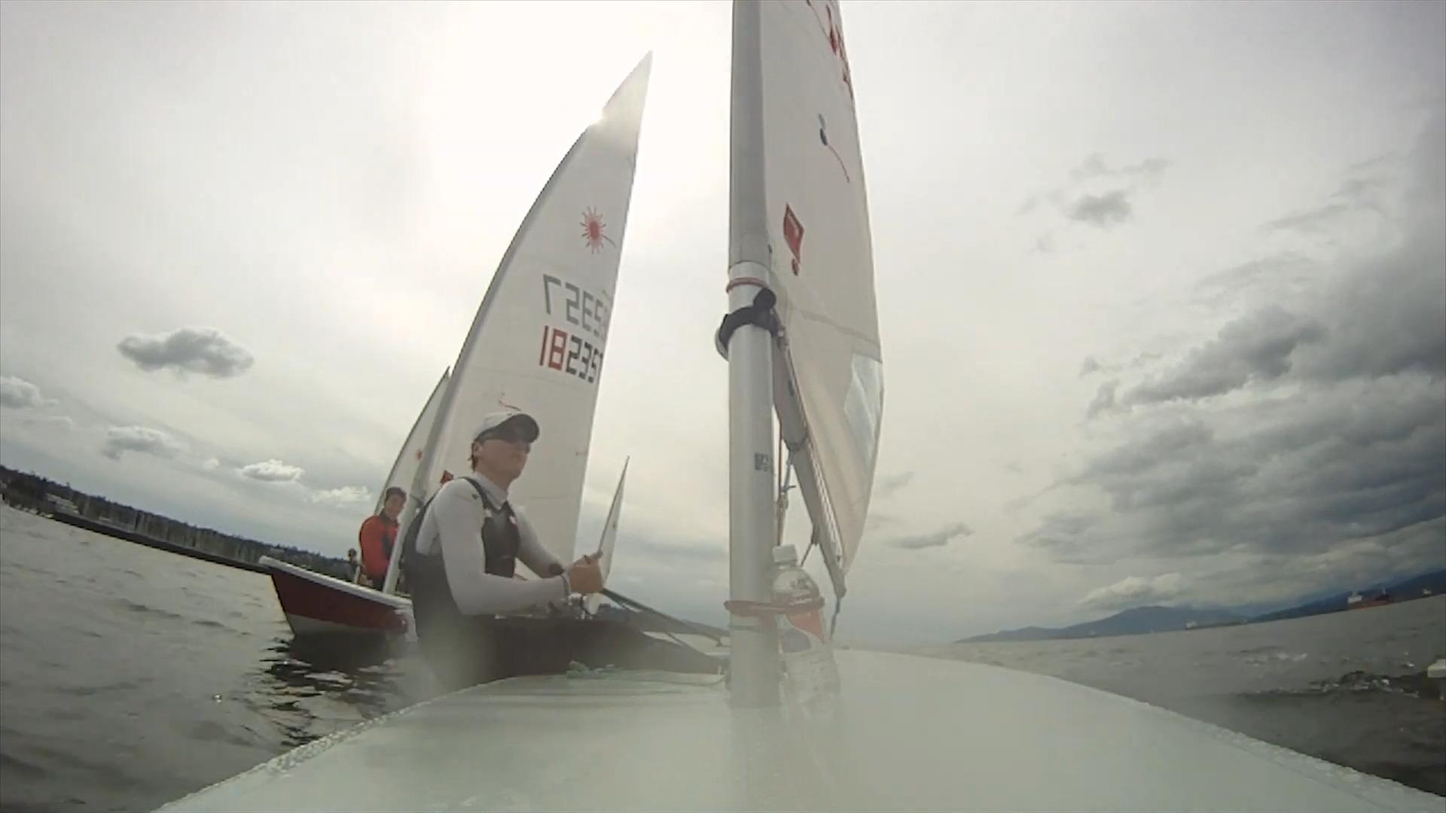boat: (154, 0, 1446, 813)
land: (0, 465, 389, 607), (956, 574, 1446, 644)
person: (413, 411, 721, 674)
sea: (0, 486, 438, 813), (898, 594, 1446, 797)
sky: (0, 0, 731, 631), (834, 0, 1446, 650)
